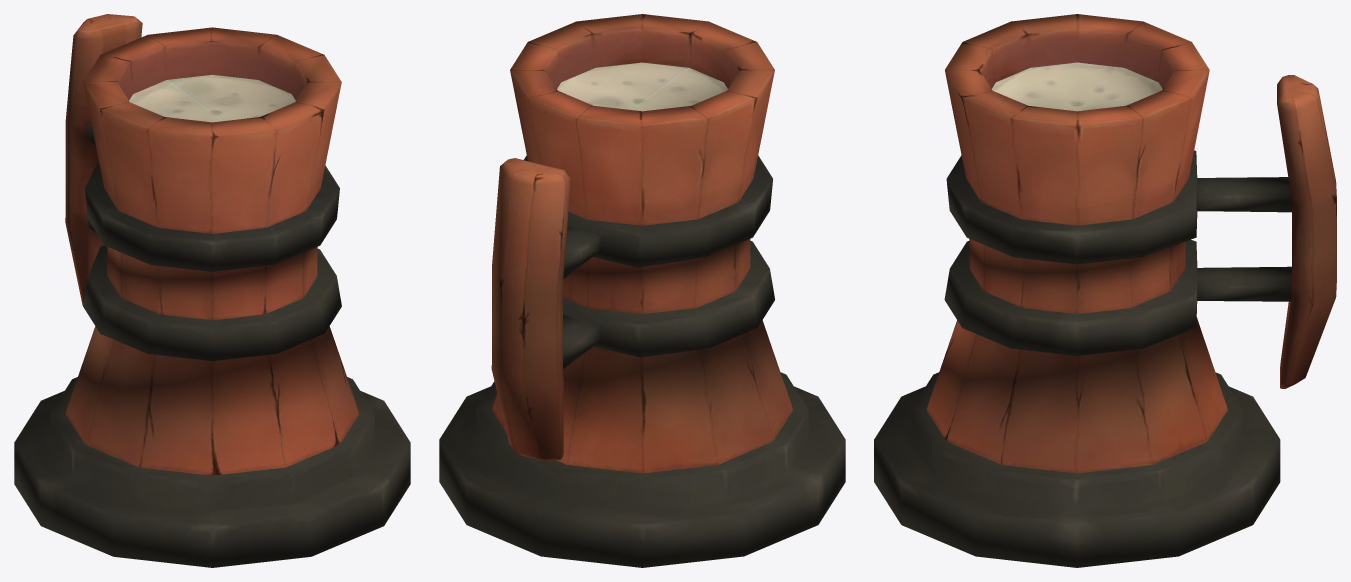
The model's file is beer.glb.
The picture shows the model from 3 angles, left to right: view 1: azimuth 30°, elevation 25°; view 2: azimuth 150°, elevation 25°; view 3: azimuth 270°, elevation 25°; orthographic projection. The views are drawn at different scales.
Parts seen in each view (by area): view 1: Cylinder; view 2: Cylinder; view 3: Cylinder.
Boxes of the visible parts, box(x1,y1,x2,y2) form: Cylinder: box(14, 14, 410, 567); Cylinder: box(439, 14, 845, 567); Cylinder: box(874, 14, 1336, 567).
Bounding box in the file's own units: 0.1815 × 0.2031 × 0.2067.
1 material, 1 textured.
